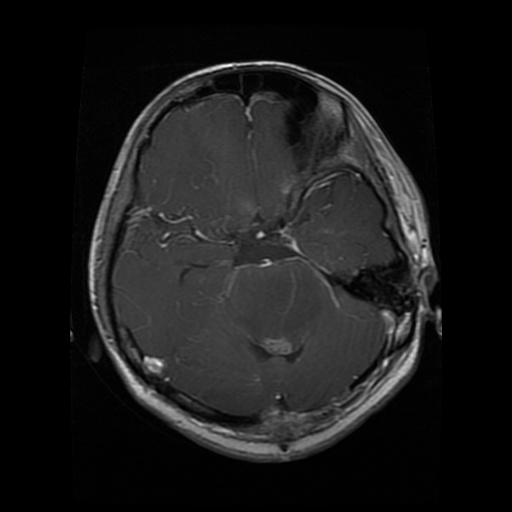glioma: (291, 176, 392, 277)
